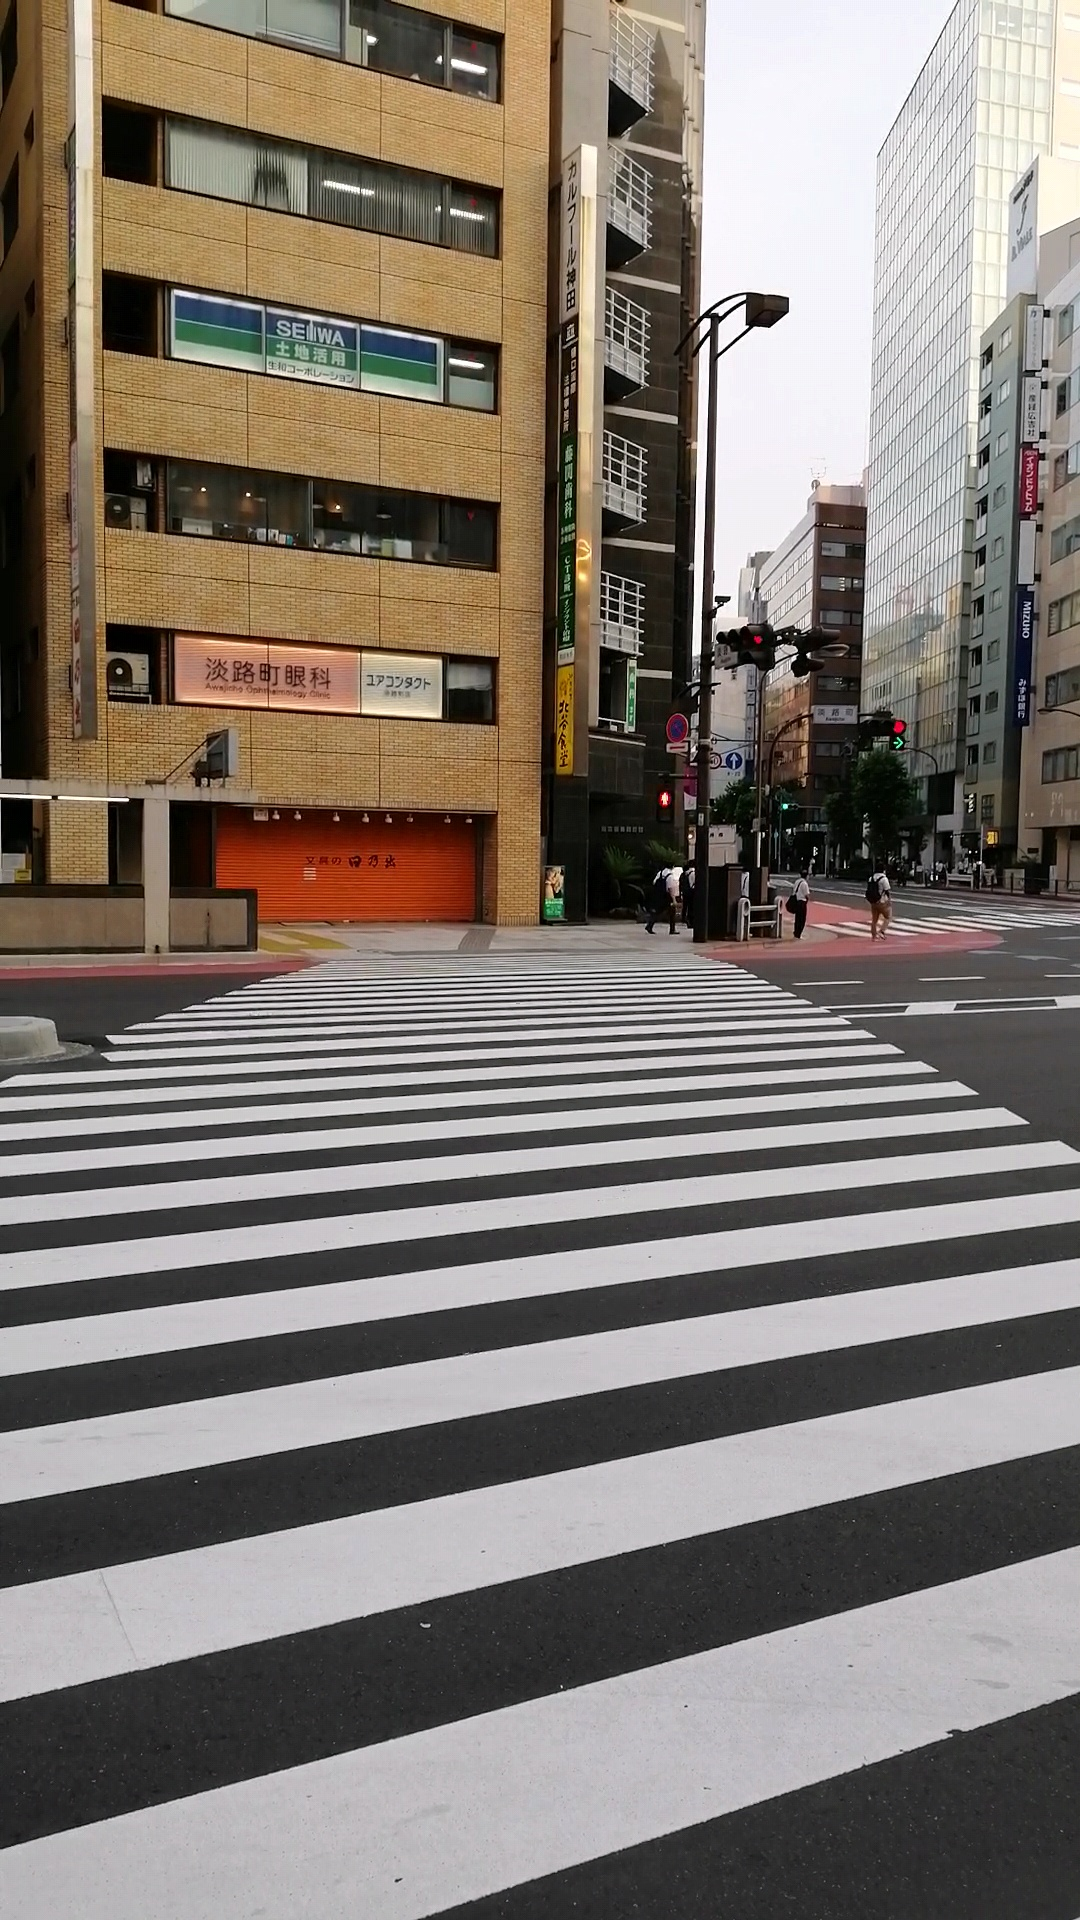red: (654, 785, 676, 828)
